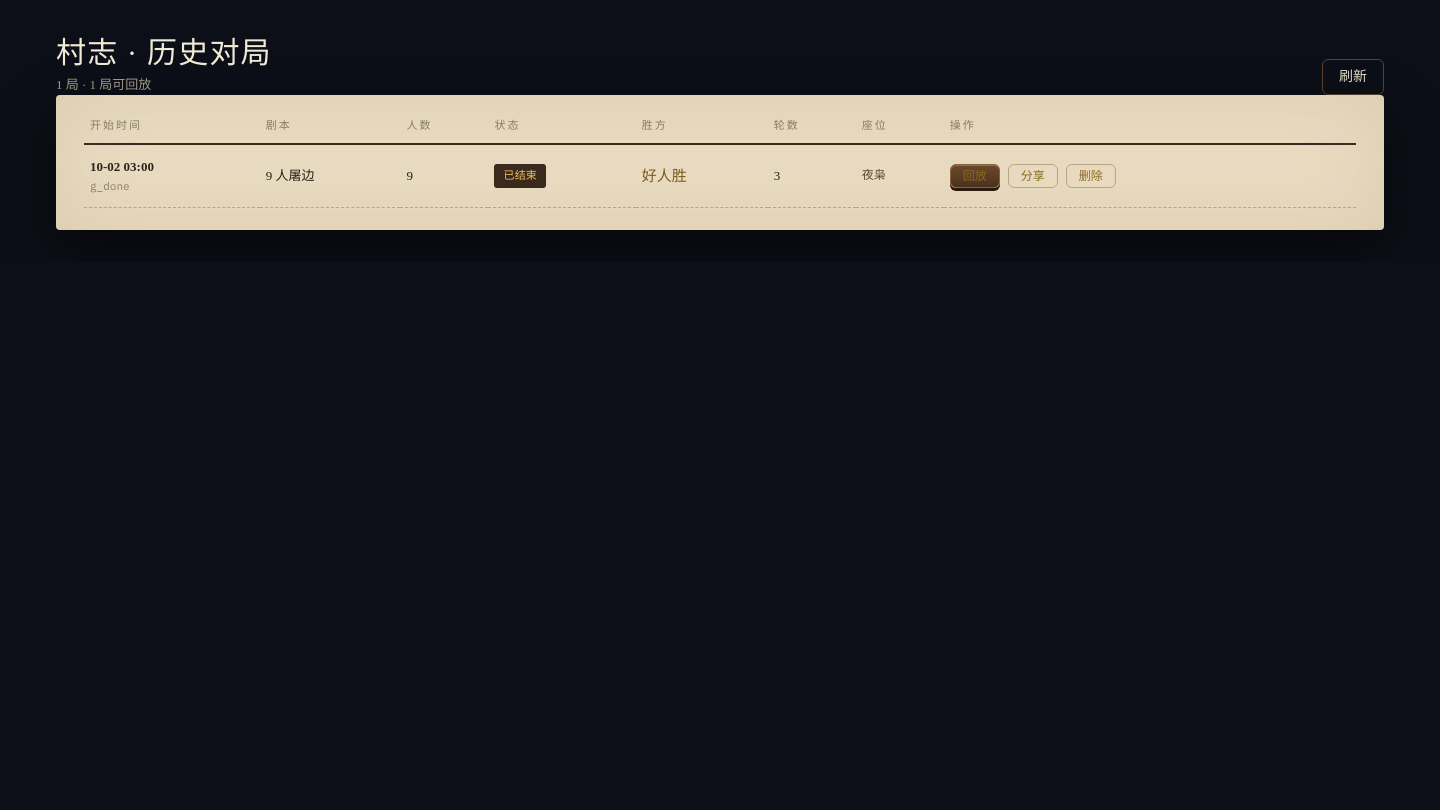
Test case: History 删除 › 确认后删除并移除该行
The width and height of the screenshot is (1440, 810).
Expected: the text "g_done" is shown, x1=90 y1=179 x2=130 y2=193
What coordinates should you click on to do the following:
click the button "删除"
I would click on:
 (1091, 176)
Its box is x1=1066 y1=164 x2=1116 y2=188.
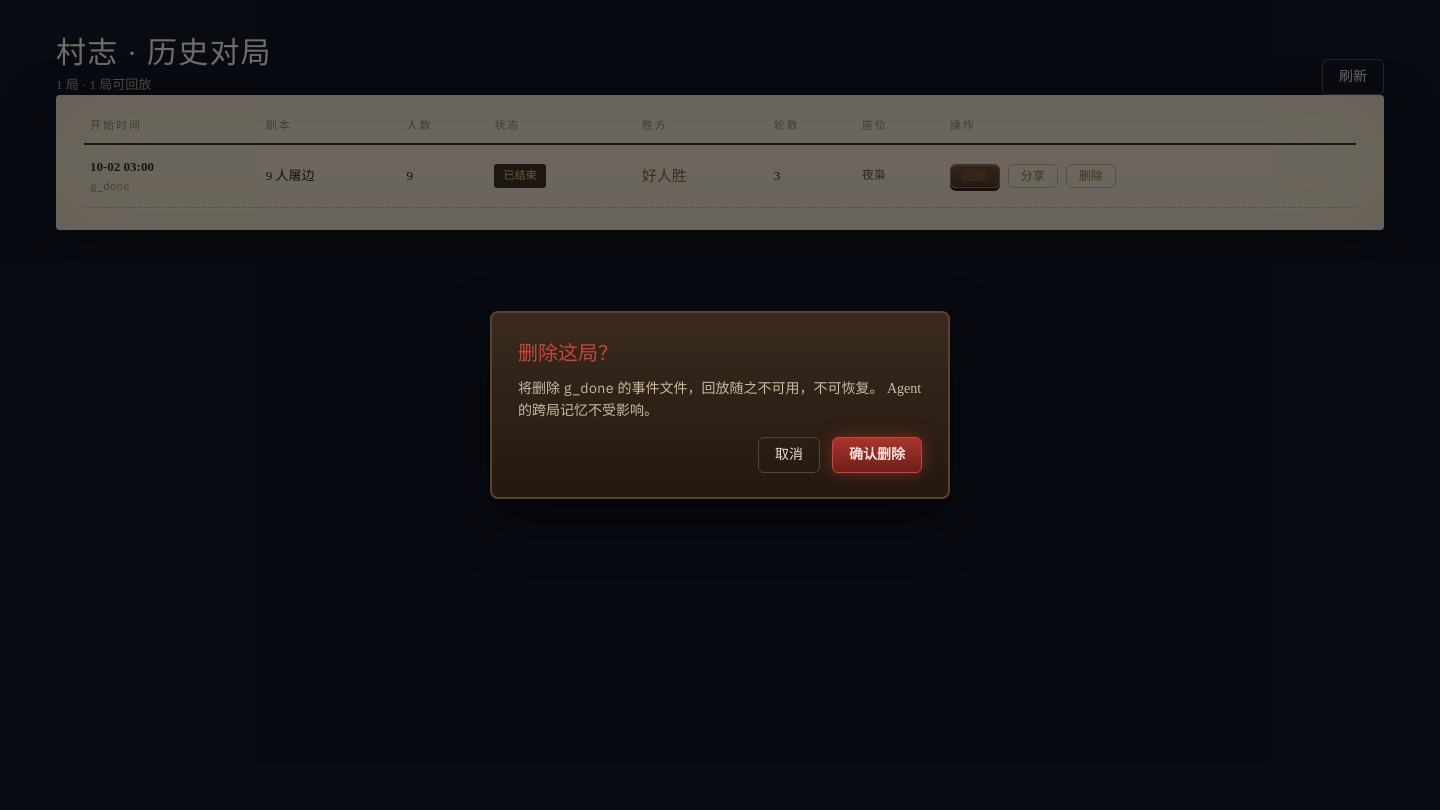
Expected: the dialog shows "g_done", x1=564 y1=379 x2=614 y2=397
What coordinates should you click on to do the following:
click the button "确认删除"
I would click on:
 (877, 455)
Its box is x1=832 y1=437 x2=922 y2=474.
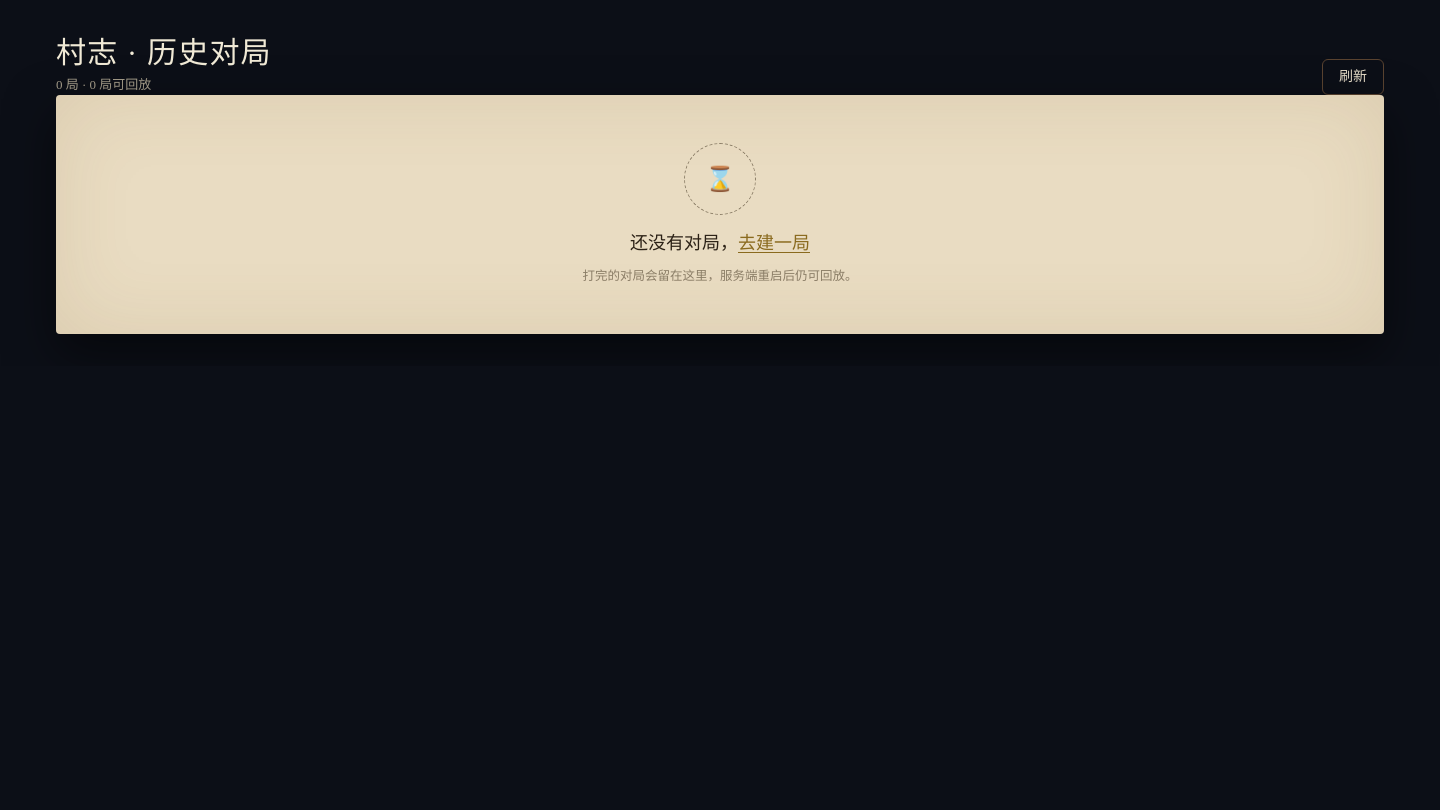
Expected: the text "g_done" is gone
Expected: the dialog is gone
